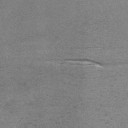finishing roll printing: (64, 59, 103, 68)
